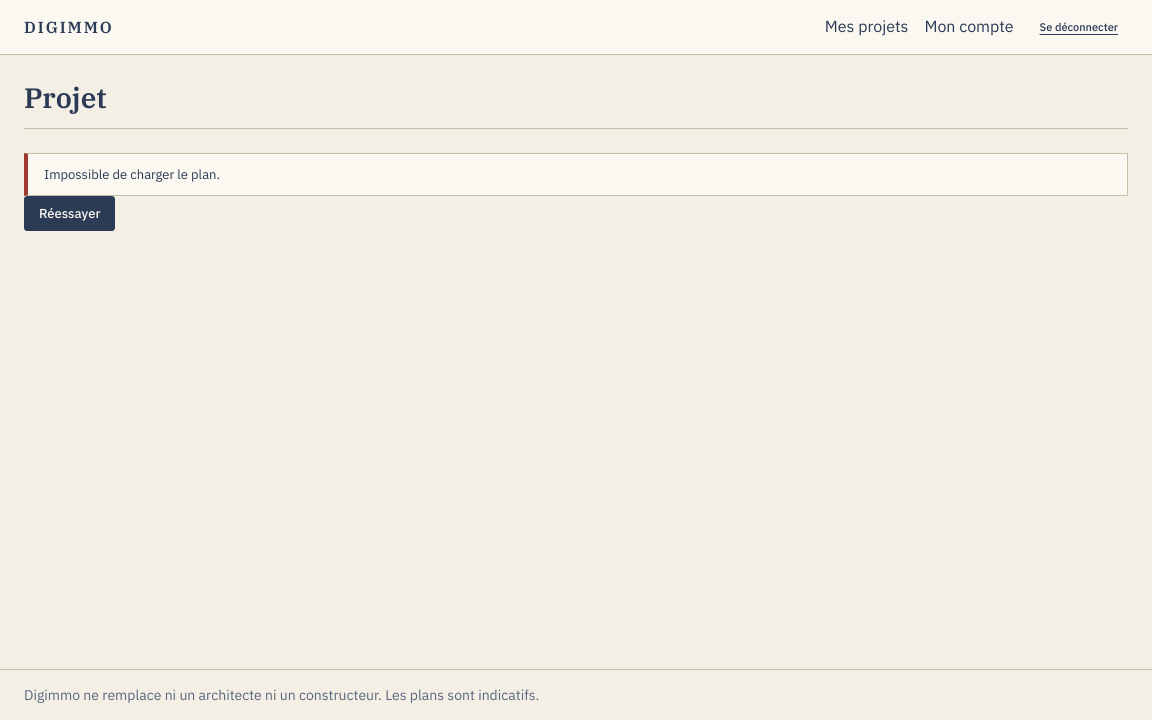
Test case: page de l'éditeur › plan en erreur : message, Réessayer, pas d'éditeur ; le serveur revenu, le plan s'affiche
Check: the text "Impossible de charger le plan." is shown, box [44, 166, 220, 183]
Click the button "Réessayer": (70, 214) [24, 196, 115, 231]
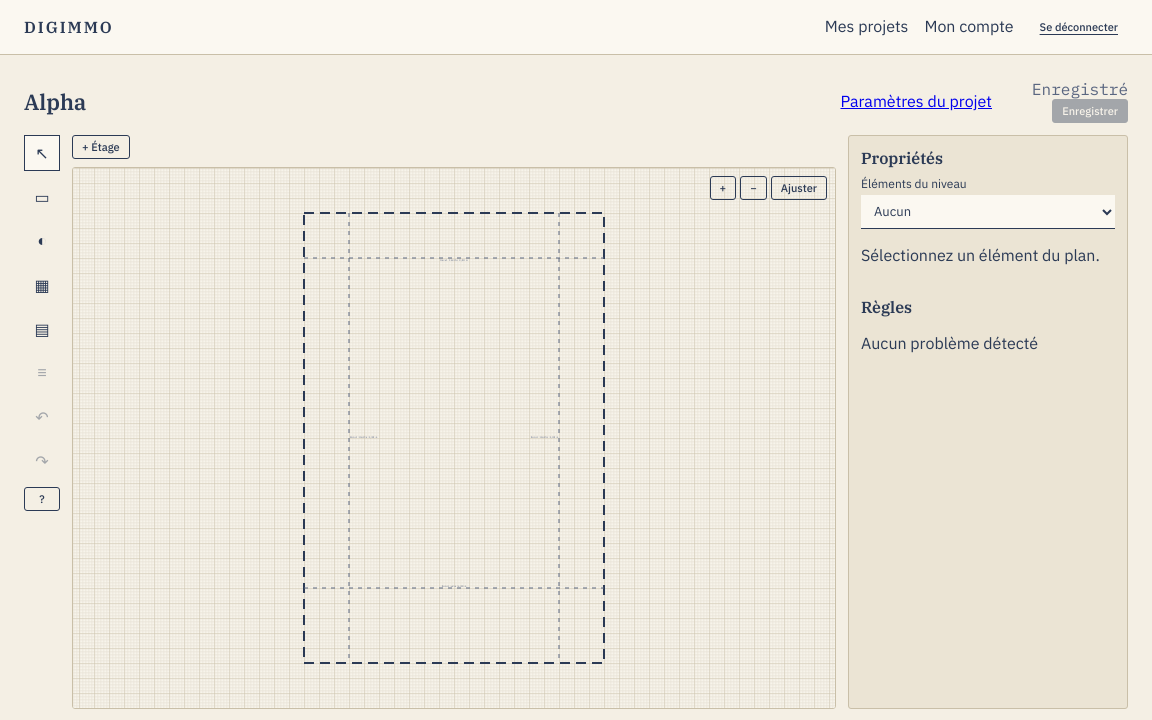
Check: the picture named "Plan du projet" is shown, box [73, 168, 835, 708]
